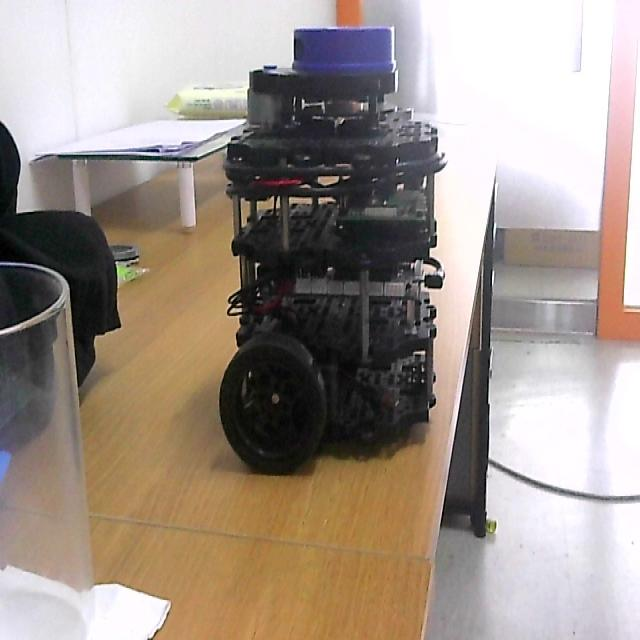turtle: (217, 24, 448, 476)
